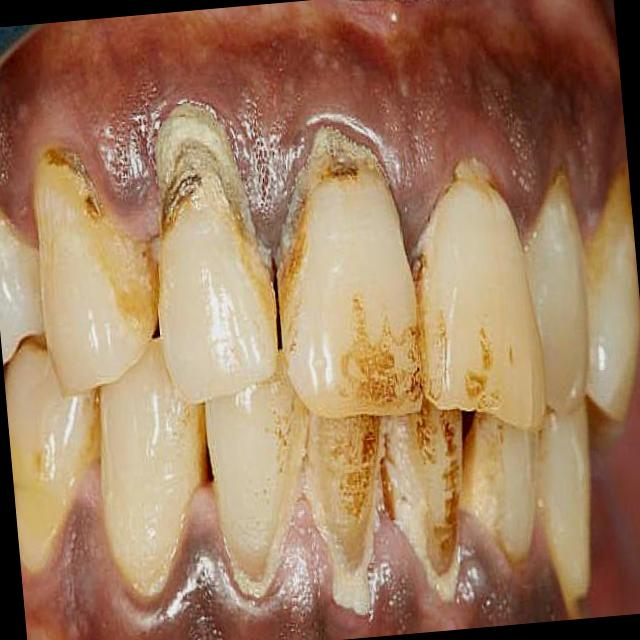calculus: (260, 102, 400, 305), (148, 92, 245, 296), (36, 126, 119, 296), (317, 468, 397, 632), (402, 448, 483, 598), (424, 153, 528, 248), (535, 172, 586, 232)
